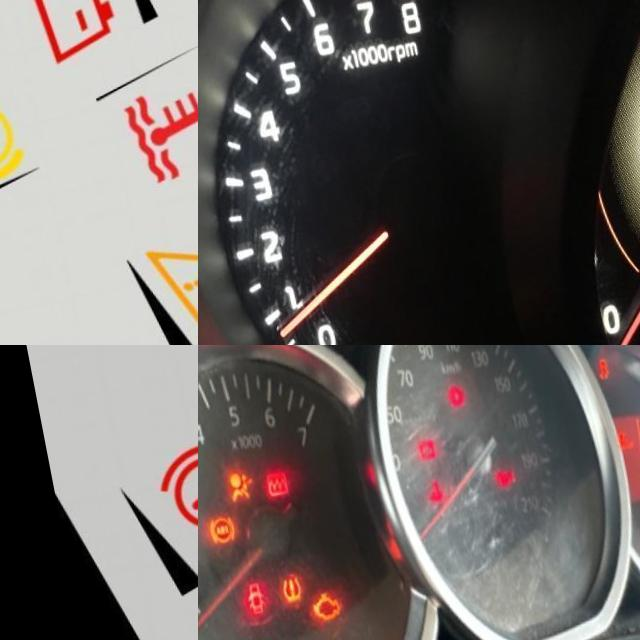High Engine Coolant Temperature: (413, 491, 438, 520)
